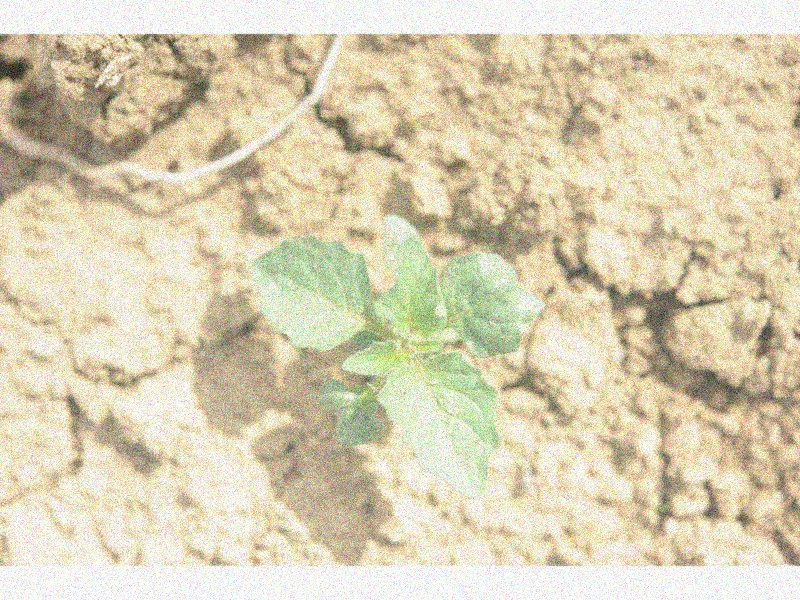nightshade: (250, 217, 540, 498)
